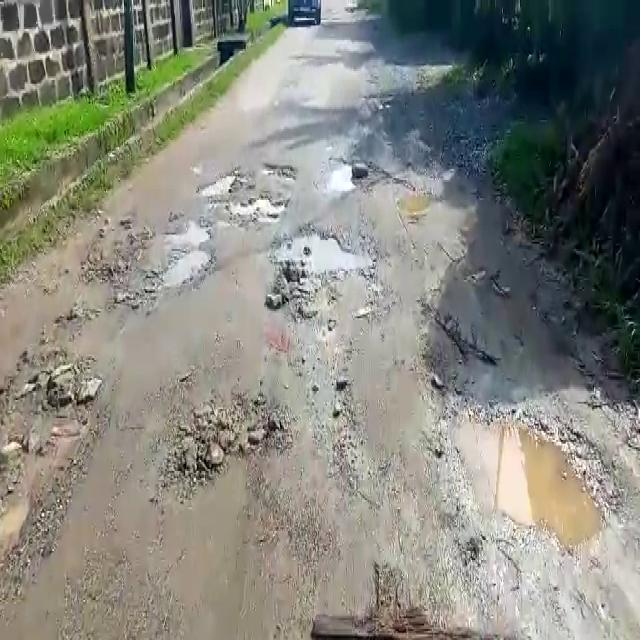Pothole: (446, 402, 612, 542), (264, 226, 377, 281), (138, 225, 216, 280), (320, 158, 364, 195), (224, 194, 291, 218)
